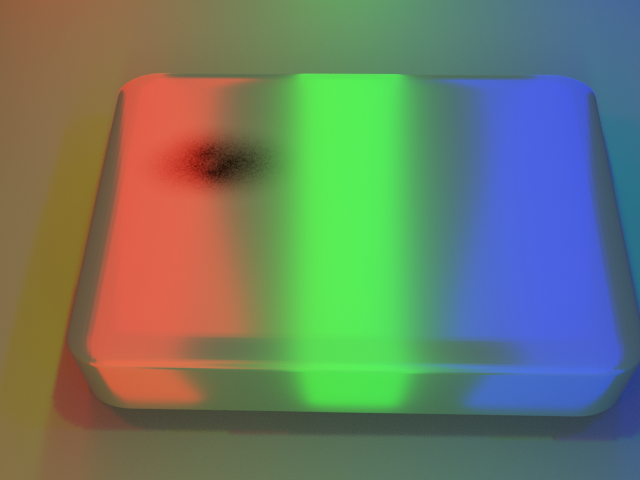stain: (102, 97, 323, 219)
